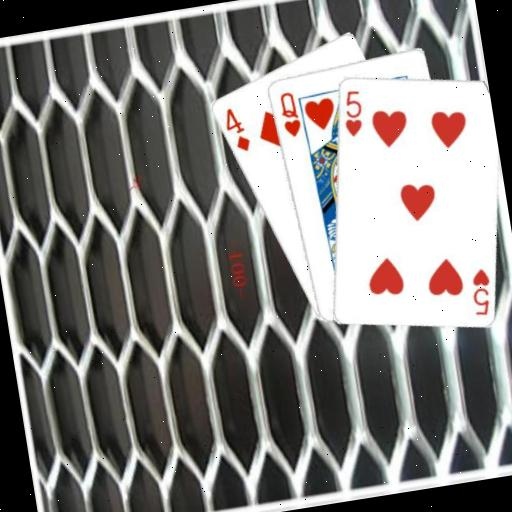4D: (218, 101, 252, 155)
5H: (335, 85, 367, 139), (465, 264, 496, 318)
QH: (275, 86, 304, 139)
